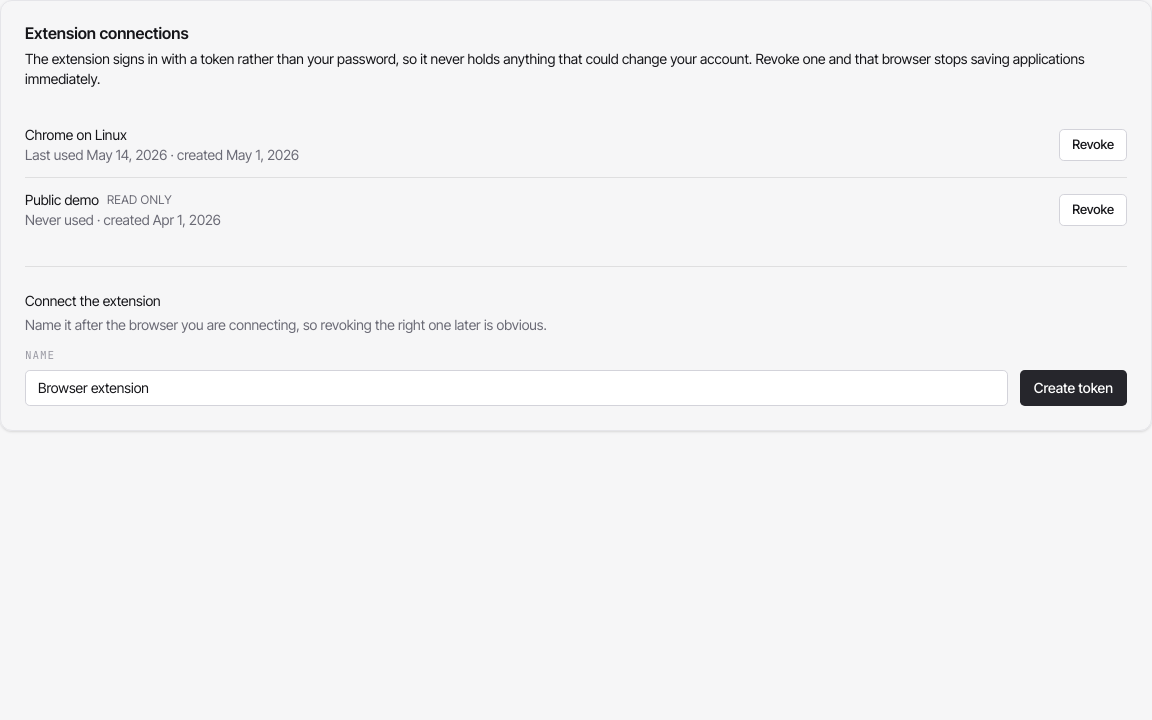
Test: TokensCard › hides the token for good once dismissed
Click the button "Create token" at (1073, 388), box [1020,370,1127,406]
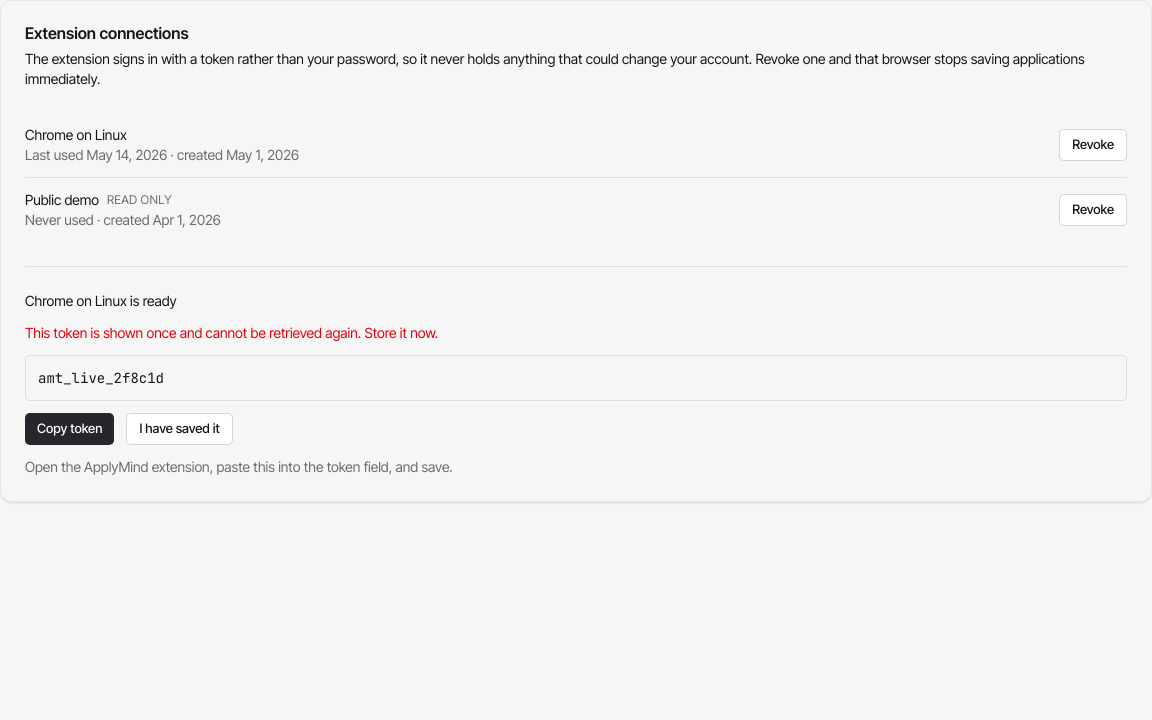
Click the button "I have saved it" at (180, 429), box [126,413,233,445]
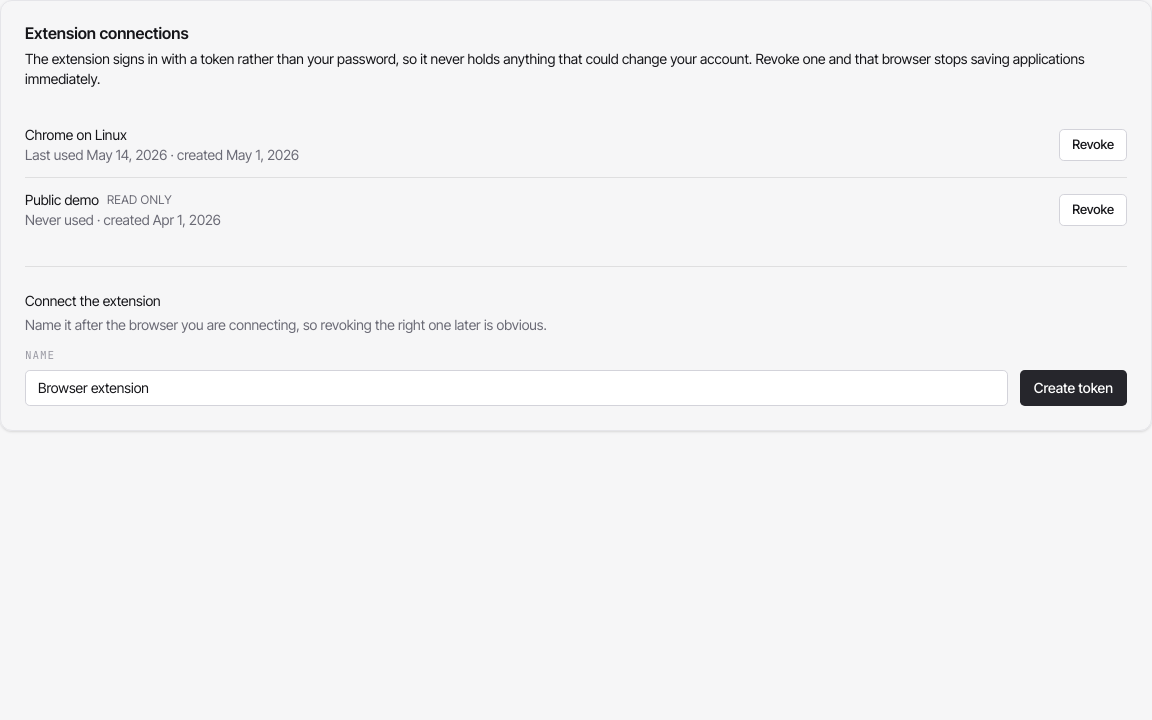
Check: the text "amt_live_2f8c1d" is gone
Check: the button "Create token" is shown, box [1020,370,1127,406]
